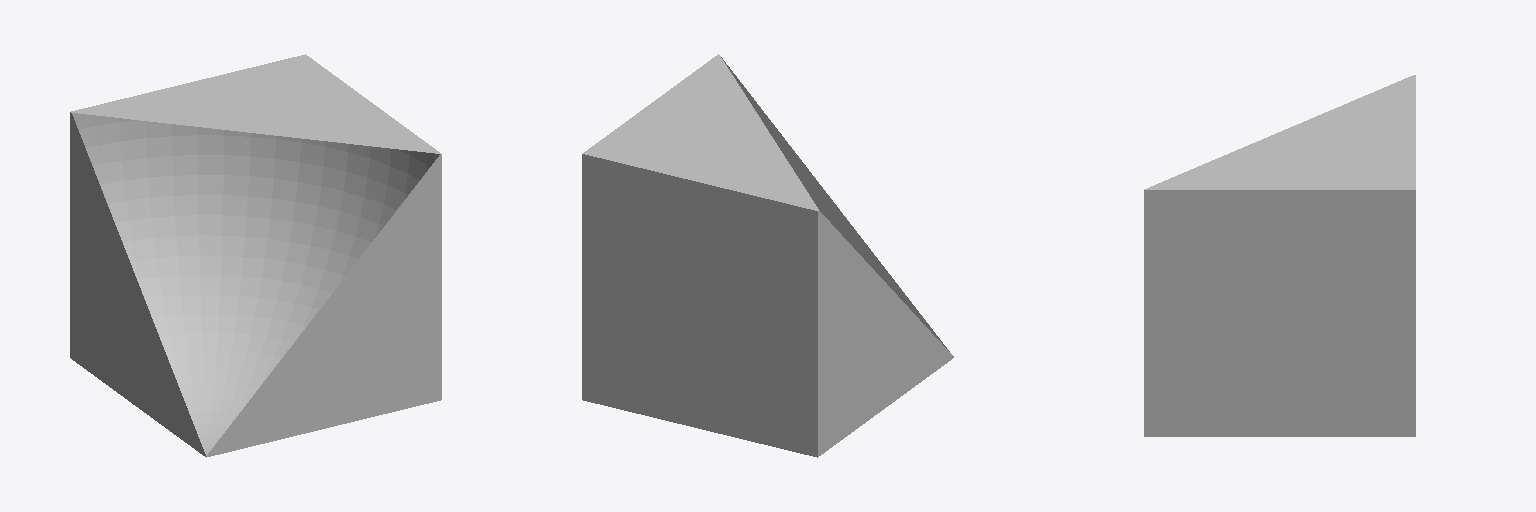
The model's file is Rampa_C1.obj.
3 renders of one model, left to right at view 1: azimuth 30°, elevation 25°; view 2: azimuth 150°, elevation 25°; view 3: azimuth 270°, elevation 25°, orthographic.
Visible parts, largest first — view 1: Rampa_C1_Cube; view 2: Rampa_C1_Cube; view 3: Rampa_C1_Cube.
Part boxes in pixels (x1,y1,x2,y2): Rampa_C1_Cube: (70,54,441,457); Rampa_C1_Cube: (582,54,953,457); Rampa_C1_Cube: (1144,75,1415,436).
Bounding box in the file's own units: 4 × 4 × 4.